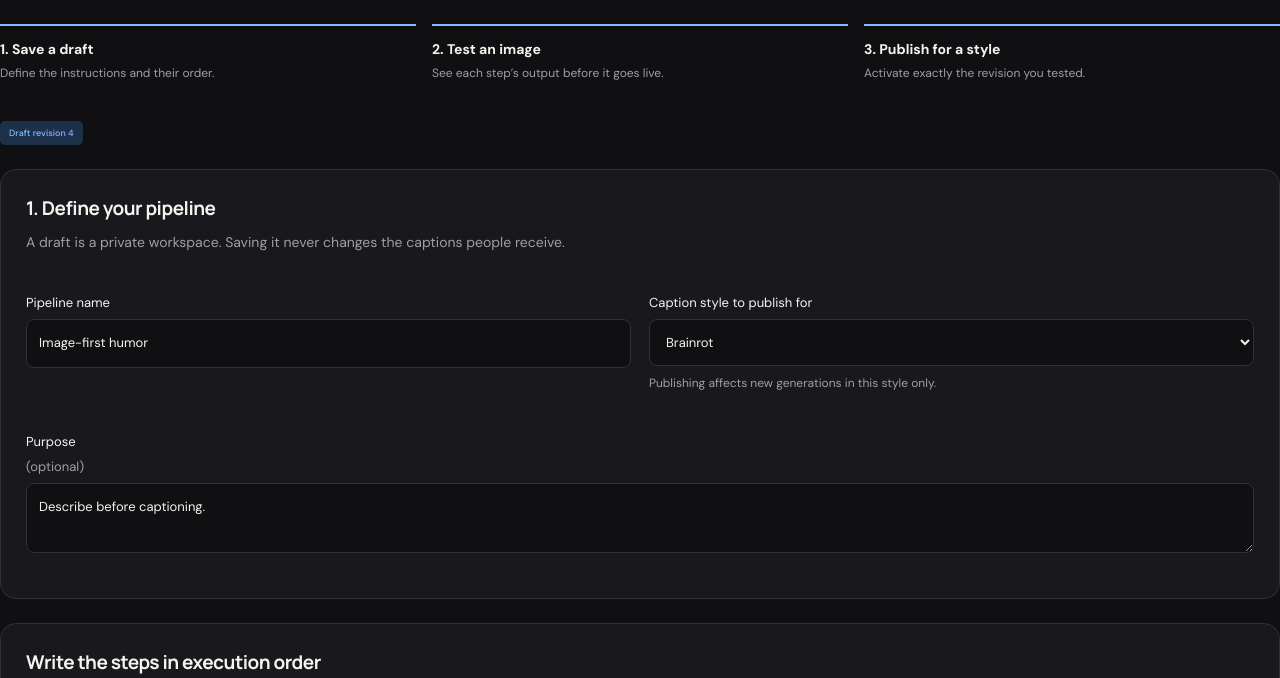
Scenario: keeps edited content when a save fails
Step 1. Replace the text in the field labelled "Pipeline name" with "Keep this edit" → x=328, y=344, box [26,319,631,368]
(page scrolled)
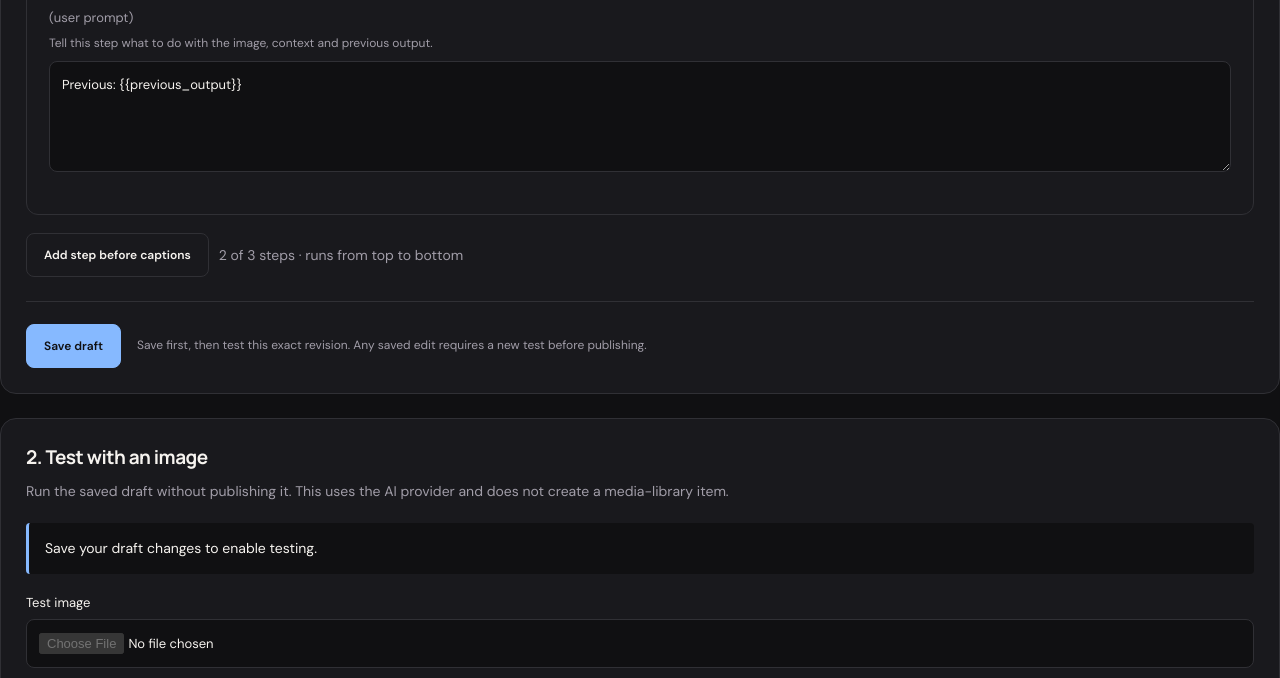
Step 2. Click the button "Save draft" → x=74, y=346, box [26,324,121,368]
(page scrolled)
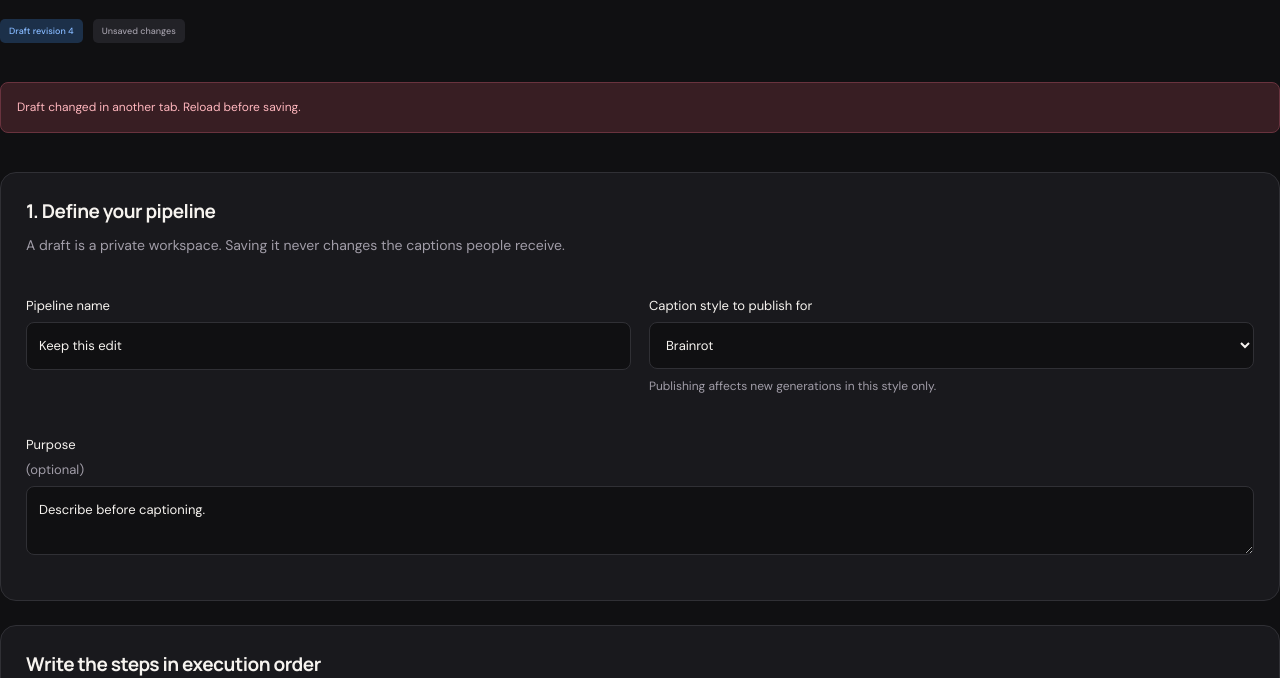
Check: the message shows "another tab", box [17,99,301,115]
